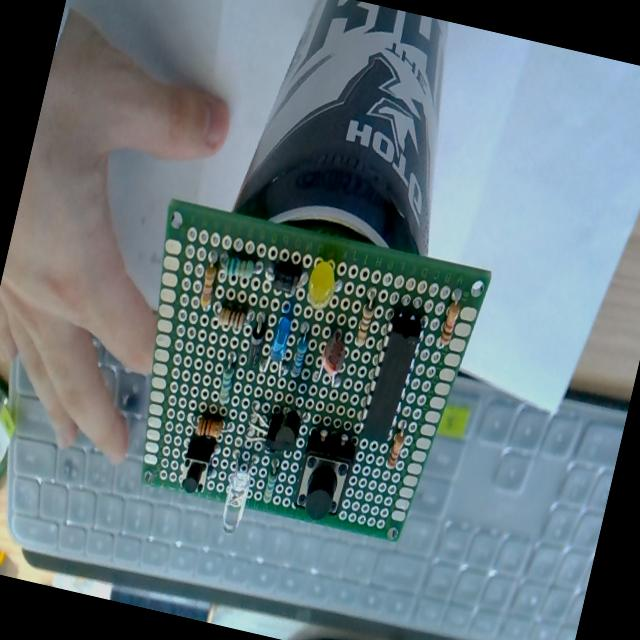IC: (350, 293, 435, 450)
cds: (307, 328, 360, 398)
diode: (260, 252, 312, 302), (240, 304, 270, 382)
led: (210, 446, 264, 542), (251, 312, 296, 388), (302, 247, 352, 312)
resistor: (190, 242, 227, 320), (350, 274, 384, 356), (284, 316, 318, 394), (434, 276, 463, 360), (180, 404, 234, 444), (206, 296, 256, 339), (218, 243, 268, 286), (385, 414, 417, 478), (210, 352, 241, 412), (258, 452, 290, 508)
switch: (290, 428, 368, 527), (170, 439, 226, 494)
transistor: (270, 401, 312, 457)
